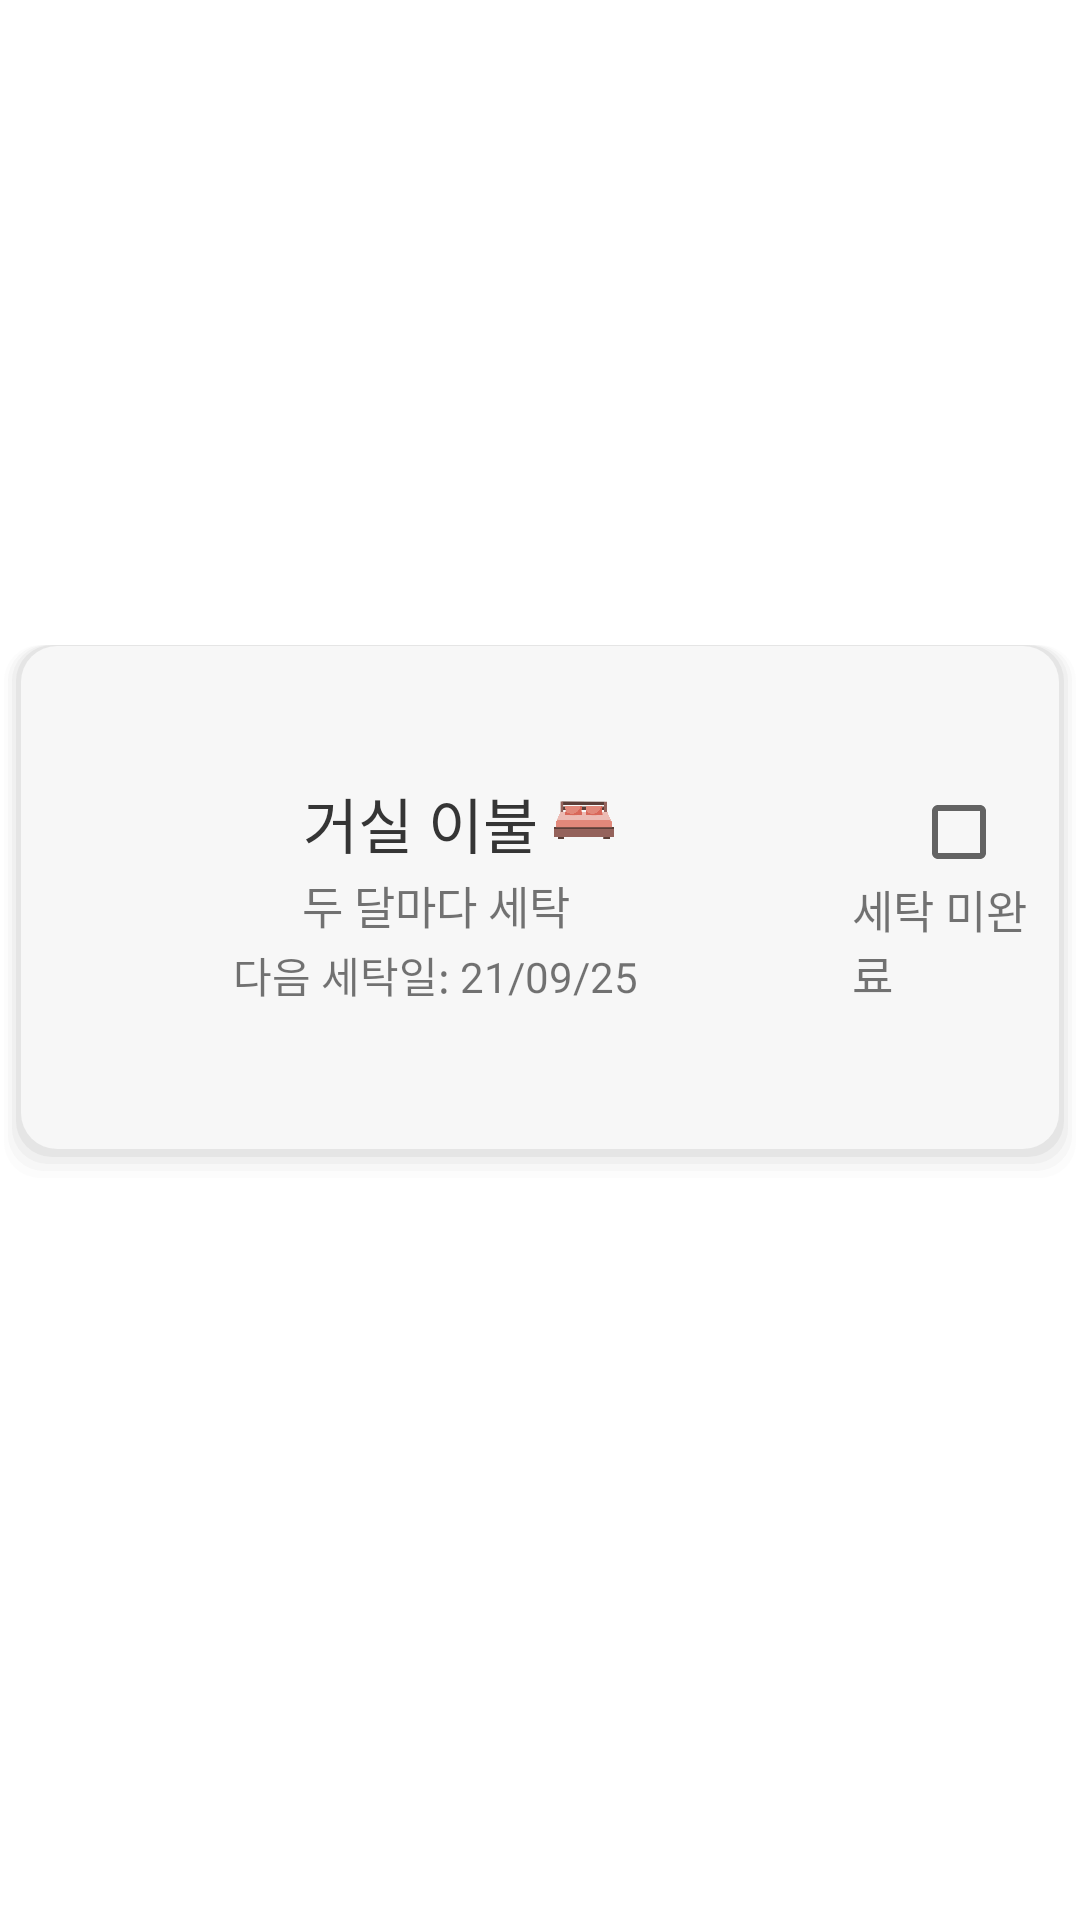

Locate icon controls on the screen. Image size 1080 x 1920, boxes as Rect(x1, y1, x2, y2).
bed: Rect(554, 801, 614, 839)
